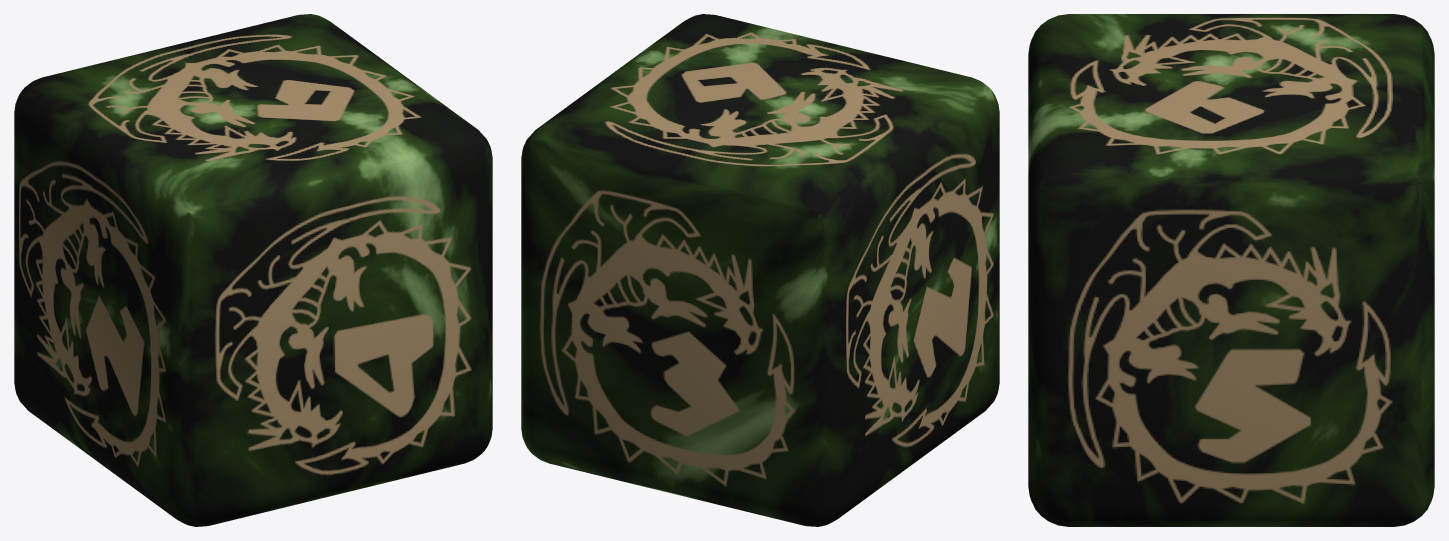
Rendered from d6_dragons_SDRA98.glb.
3 renders of one model, left to right at view 1: azimuth 30°, elevation 25°; view 2: azimuth 150°, elevation 25°; view 3: azimuth 270°, elevation 25°, orthographic. The views are drawn at different scales.
Visible parts, largest first — view 1: Cube.002; view 2: Cube.002; view 3: Cube.002.
Boxes of the visible parts, left/top/right/bottom form: Cube.002: left=14, top=14, right=492, bottom=526; Cube.002: left=521, top=14, right=999, bottom=526; Cube.002: left=1028, top=14, right=1434, bottom=526.
Bounding box in the file's own units: 104 × 104 × 104.
1 material, 1 textured.
